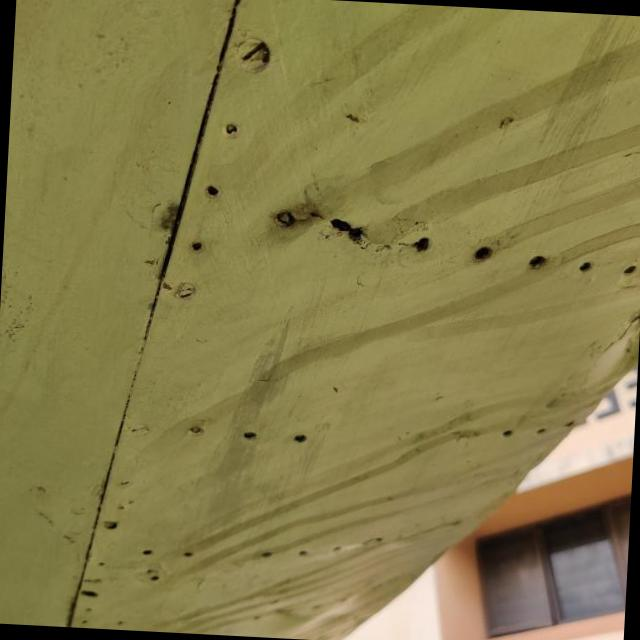Crack: (330, 219, 365, 244)
